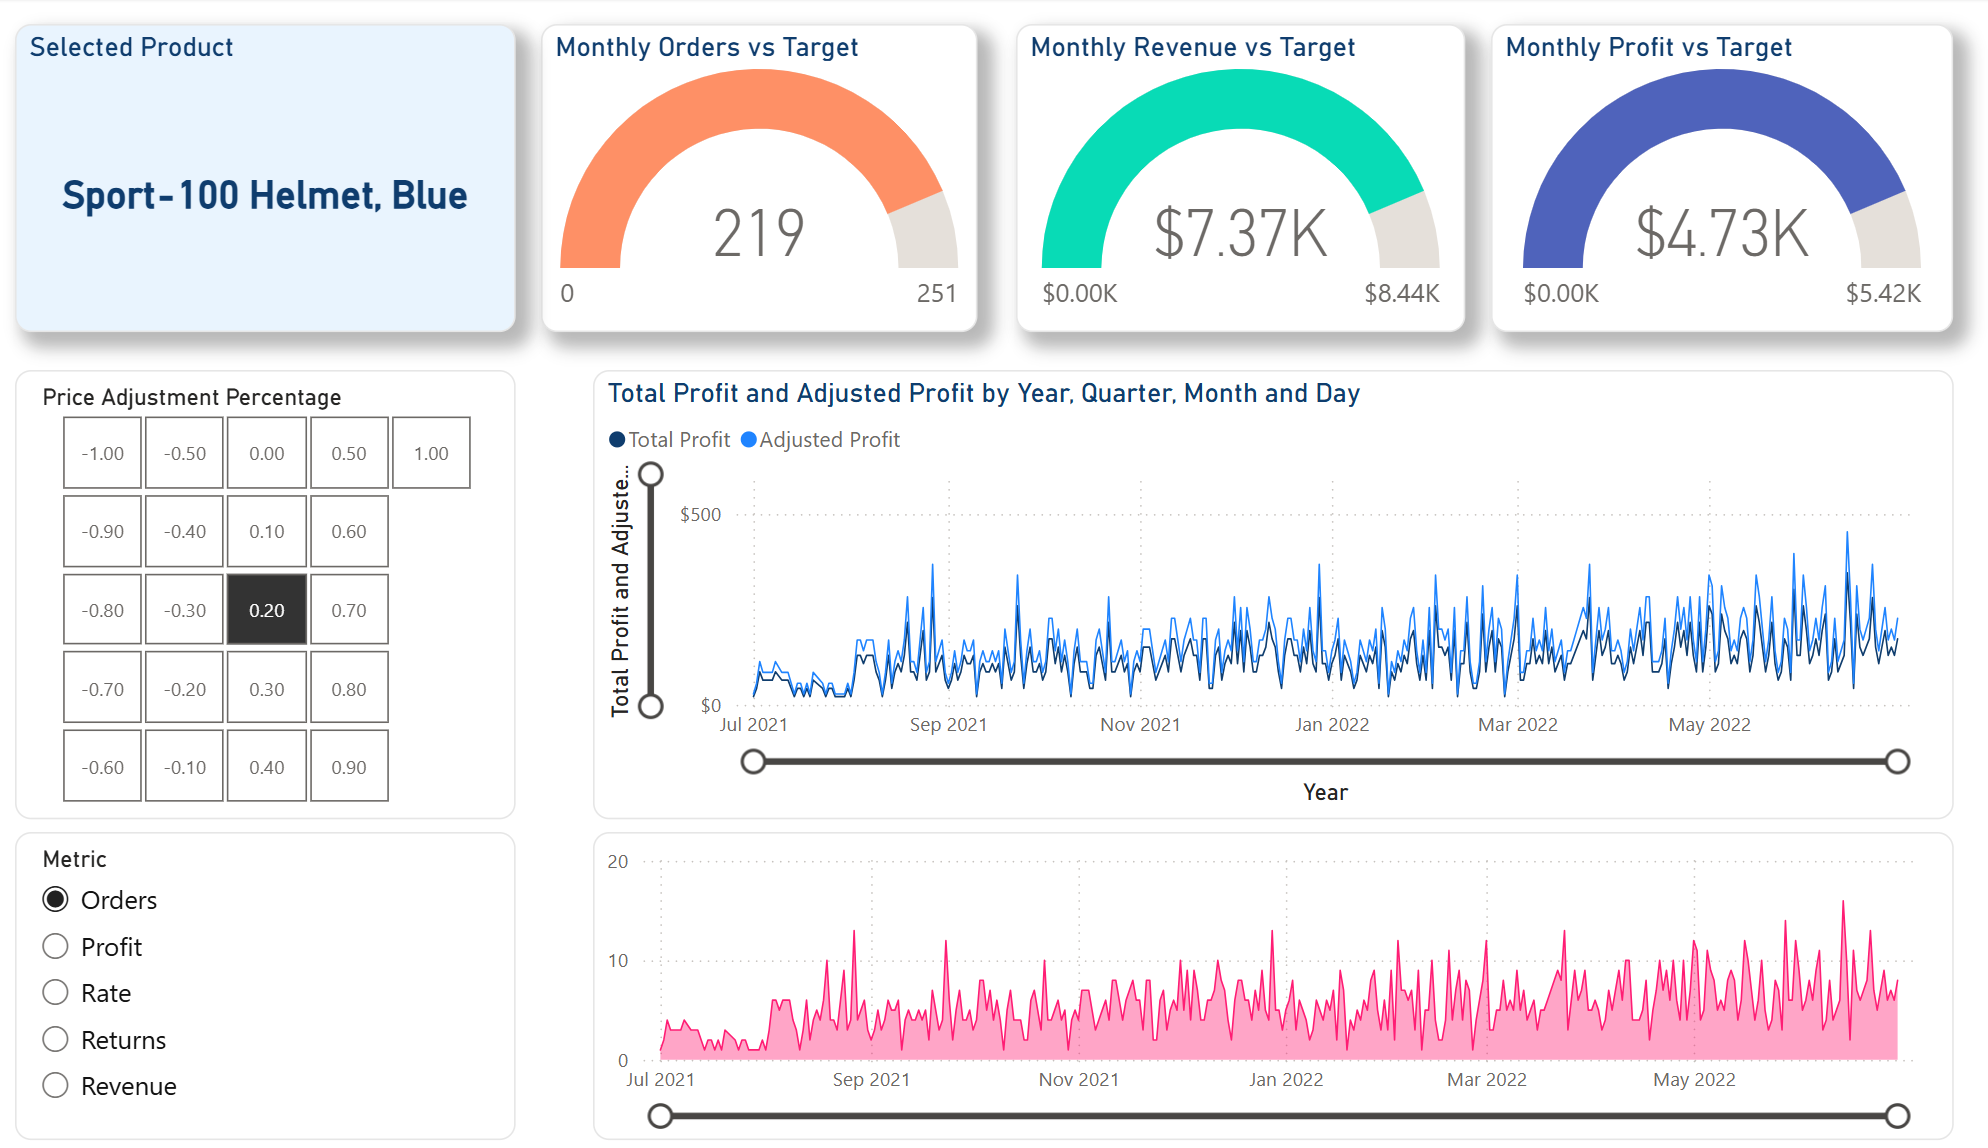

The page's visual inventory and layout, read from the dashboard file:
{"tool":"powerbi","page":{"name":"Product Detail","canvas":[1280,720],"ordinal":2},"visuals":[{"type":"gauge","title":"Monthly Orders vs Target","fields":{"Y":["Measure Table.Total Orders"],"MaxValue":["Measure Table.Order Target"]},"box":[376,16,272,192],"z":0},{"type":"actionButton","box":[0,0,100,40],"z":1000},{"type":"gauge","title":"Monthly Revenue vs Target","fields":{"Y":["Measure Table.Total Revenue"],"MaxValue":["Measure Table.Revenue Target"]},"box":[672,16,280,192],"z":2000},{"type":"gauge","title":"Monthly Profit vs Target","fields":{"Y":["Measure Table.Total Profit"],"MaxValue":["Measure Table.Profit Target"]},"box":[968,16,288,192],"z":3000},{"type":"lineChart","fields":{"Y":["Measure Table.Total Profit","Measure Table.Adjusted Profit"],"Category":["Calendar.Date.Variation.Date Hierarchy.Year","Calendar.Date.Variation.Date Hierarchy.Quarter","Calendar.Date.Variation.Date Hierarchy.Month","Calendar.Date.Variation.Date Hierarchy.Day"]},"box":[408,232,848,280],"z":4000},{"type":"slicer","fields":{"Values":["Price Adjustment Percentage.Price Adjustment Percentage"]},"box":[48,232,312,280],"z":5000},{"type":"areaChart","fields":{"Category":["Calendar.Date.Variation.Date Hierarchy.Year","Calendar.Date.Variation.Date Hierarchy.Quarter","Calendar.Date.Variation.Date Hierarchy.Month","Calendar.Date.Variation.Date Hierarchy.Day"],"Y":["Measure Table.Selected Metric Value"]},"box":[408,520,848,192],"z":6000},{"type":"slicer","fields":{"Values":["Product Metric Selection.Metric"]},"box":[48,520,312,192],"z":7000},{"type":"card","title":"Selected Product","fields":{"Values":["Min(Product.ProductName)"]},"box":[48,16,312,192],"z":8000}]}

Visuals, with their boxes in screenshot pixels (x1, y1, x2, y2), scaled from the page's 1280x720 canvas onto the 1988x1148 screenshot:
"Monthly Orders vs Target" gauge: locate(584, 26, 1006, 332)
actionButton: locate(0, 0, 155, 64)
"Monthly Revenue vs Target" gauge: locate(1044, 26, 1479, 332)
"Monthly Profit vs Target" gauge: locate(1503, 26, 1951, 332)
lineChart - Measure Table.Total Profit x Measure Table.Adjusted Profit: locate(634, 370, 1951, 816)
slicer - Price Adjustment Percentage.Price Adjustment Percentage: locate(75, 370, 559, 816)
areaChart - Calendar.Date.Variation.Date Hierarchy.Year x Calendar.Date.Variation.Date Hierarchy.Quarter: locate(634, 829, 1951, 1135)
slicer - Product Metric Selection.Metric: locate(75, 829, 559, 1135)
"Selected Product" card: locate(75, 26, 559, 332)
